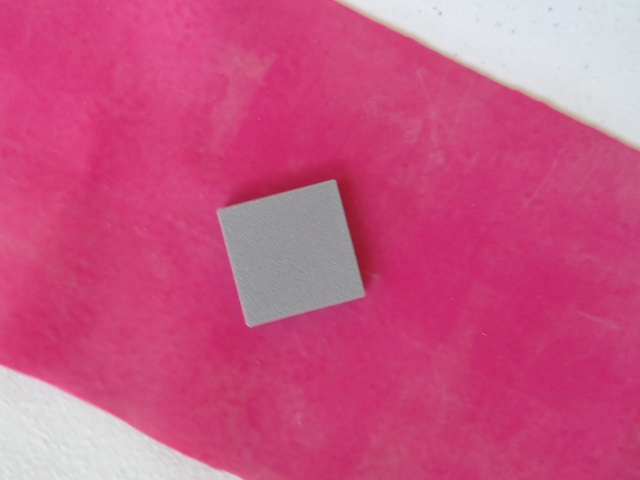Defective: (214, 175, 372, 331)
